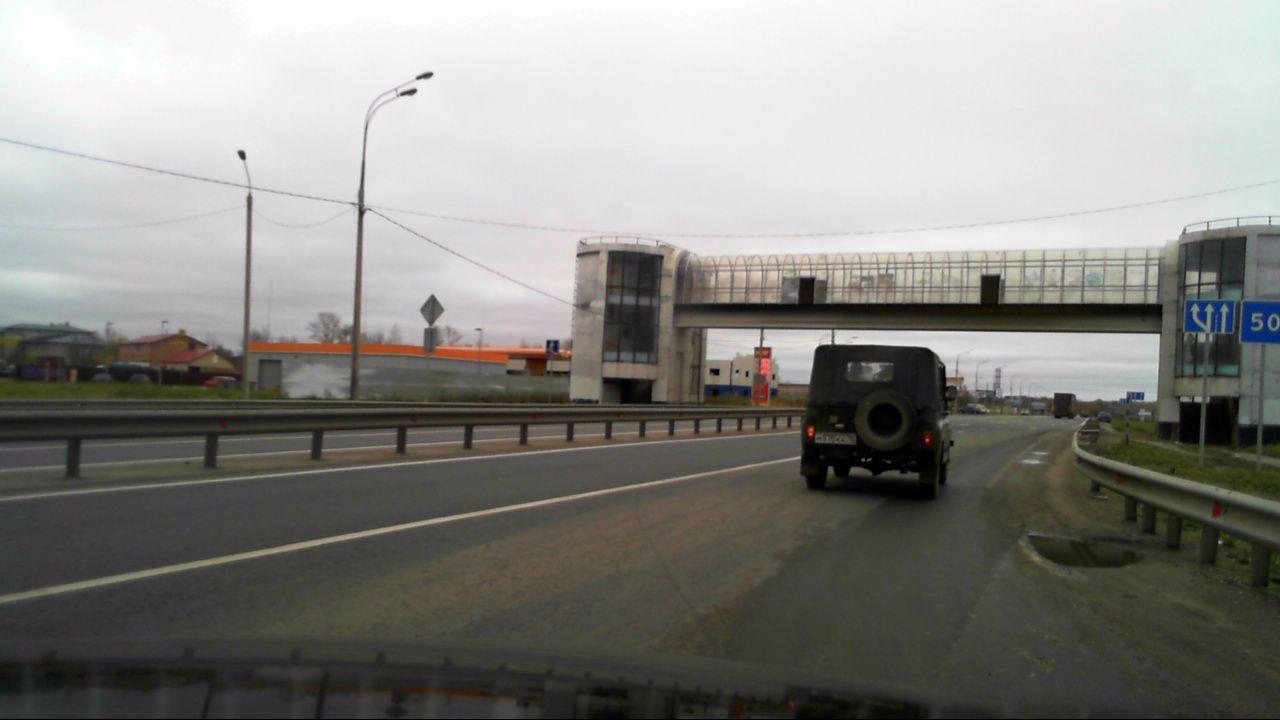5_15_1: (1183, 298, 1236, 334), (1125, 391, 1145, 400)
6_2: (1242, 301, 1280, 345)
6_7: (546, 339, 560, 352)
